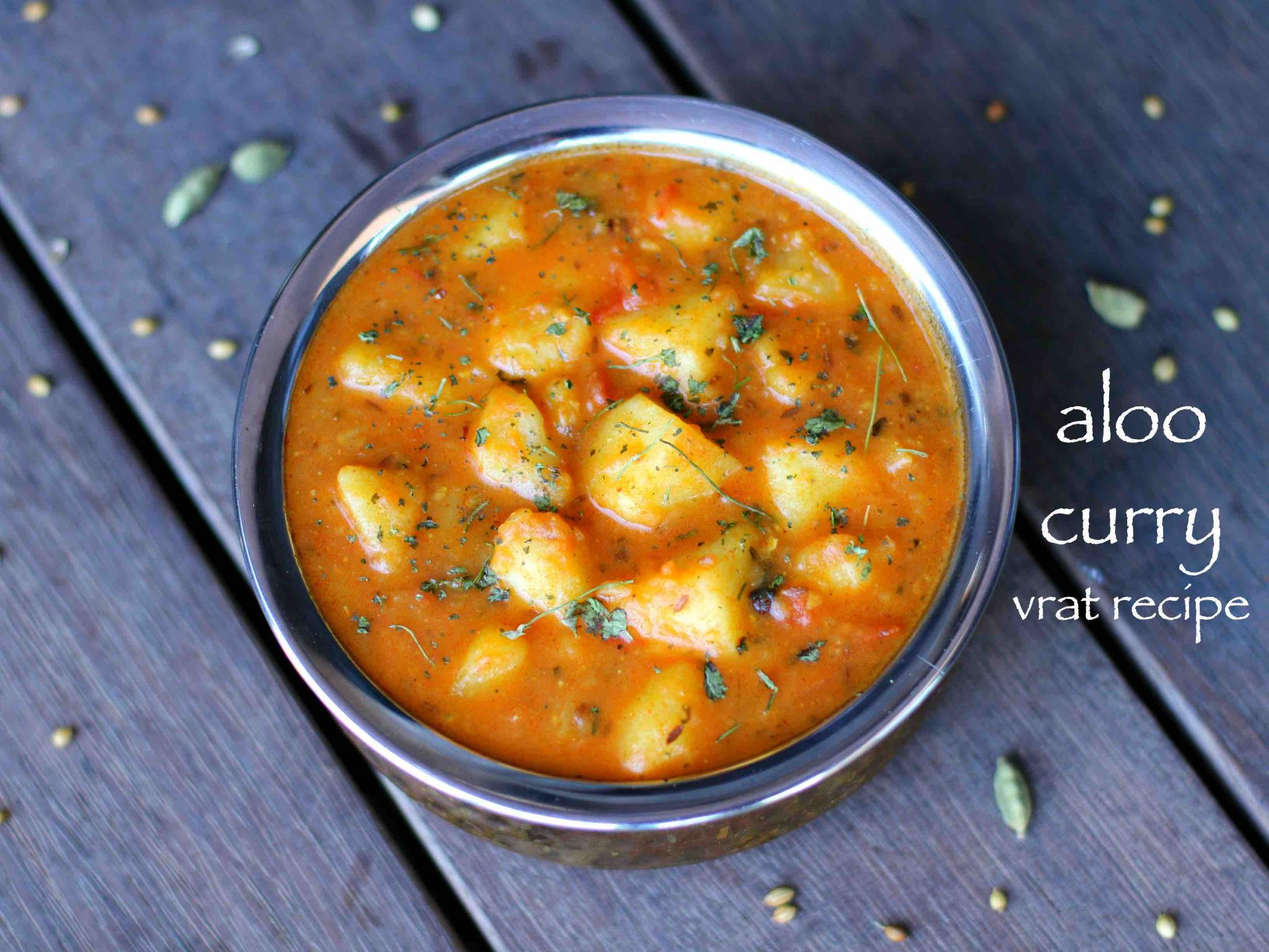aloo sabji: (267, 166, 961, 731)
